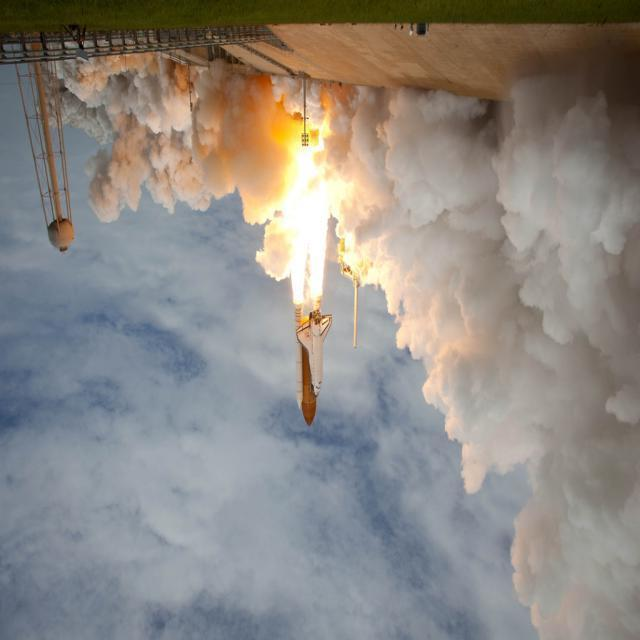missile: (298, 312, 329, 427), (352, 280, 358, 349)
